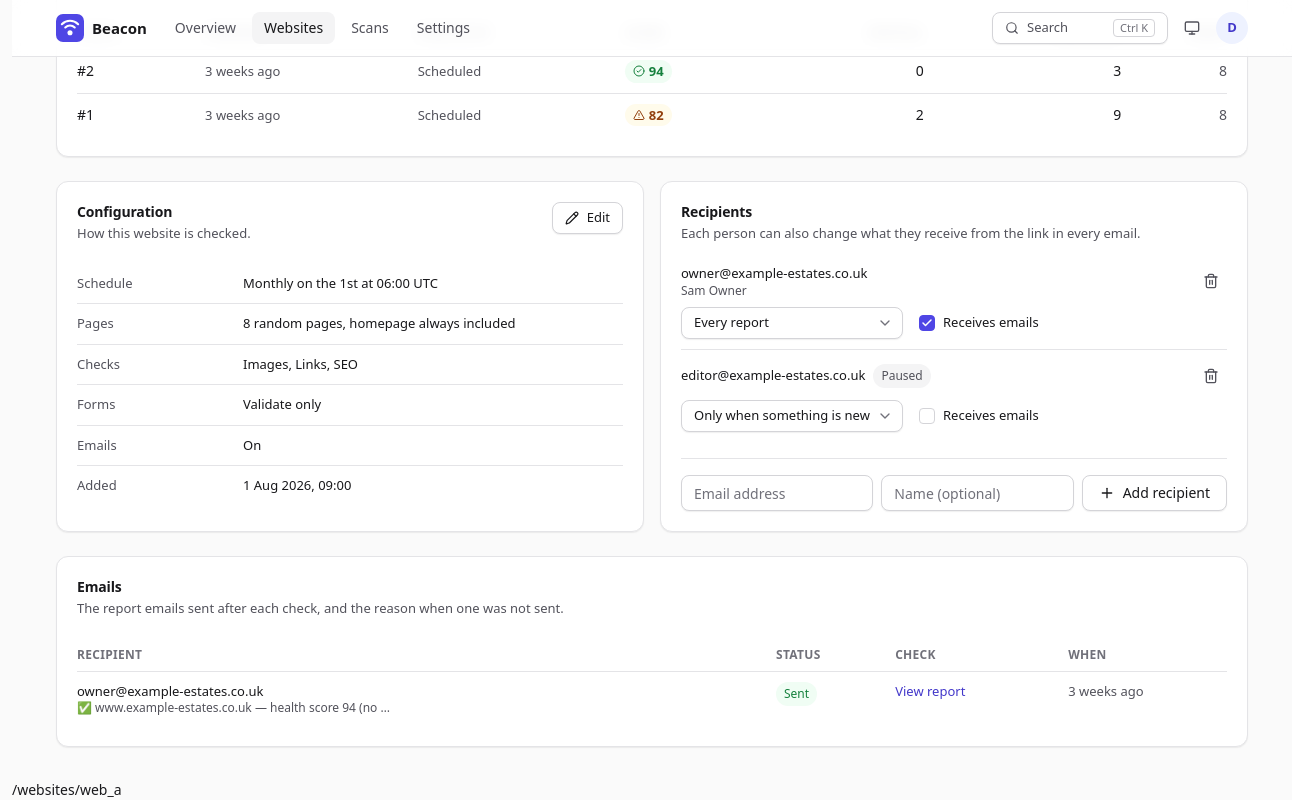
it: recipients › adds a recipient, and refuses a bad address before asking the server
(page scrolled)
Type "nope" into the field labelled "Email address". click: (777, 493)
box: [681, 475, 873, 511]
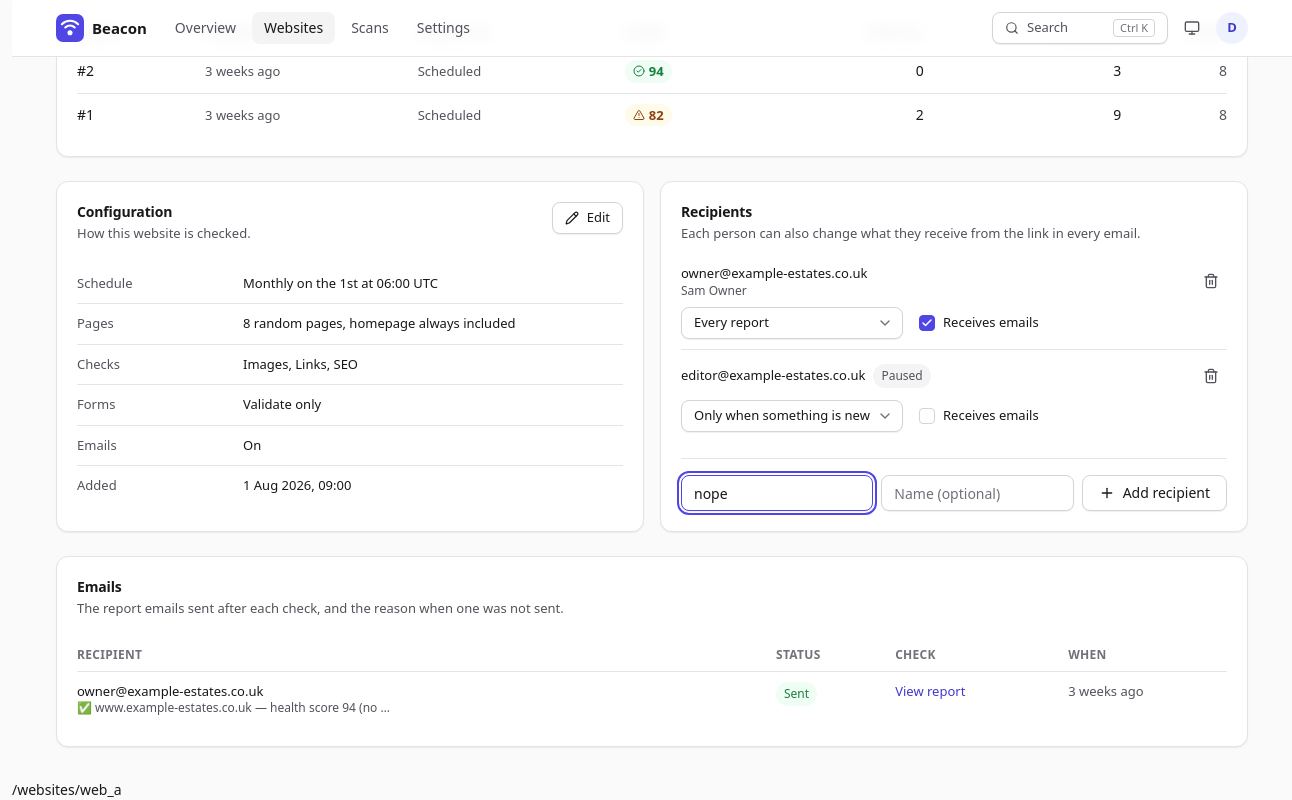
Click the button "Add recipient". click: (1154, 493)
box: [1082, 475, 1227, 511]
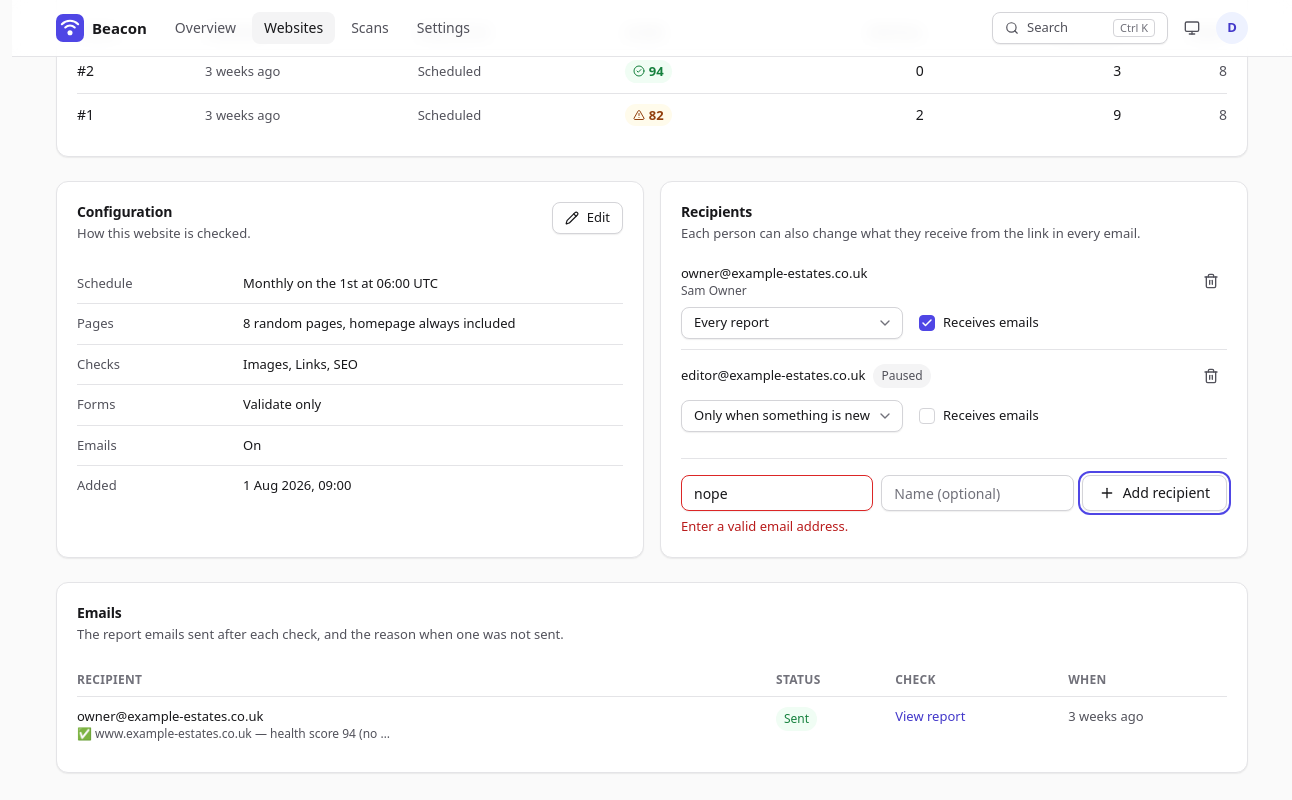
Check: the text "Enter a valid email address." is shown, box [681, 517, 848, 535]
Replace the text in the field named "Email address" with "kim@example-estates.co.uk". click: (777, 493)
box: [681, 475, 873, 511]
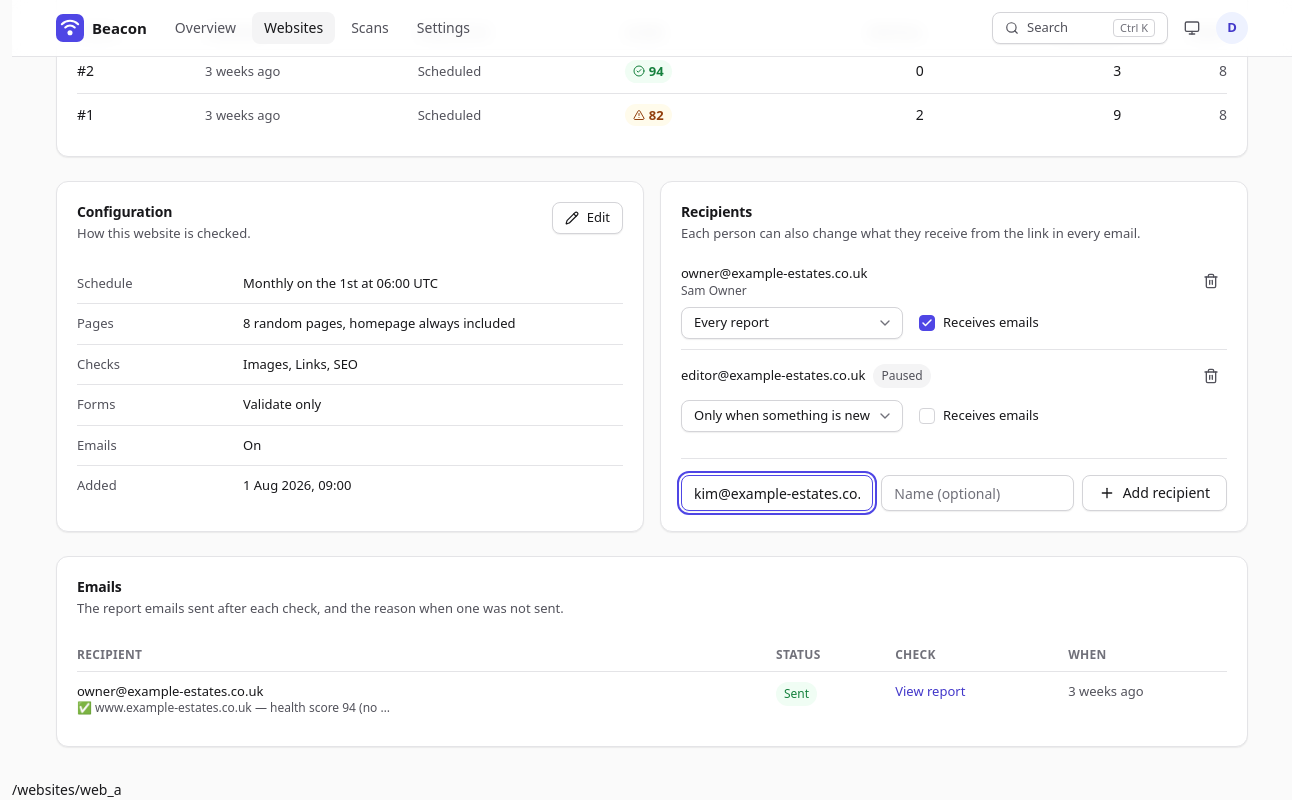
Type "Kim" into the field labelled "Name (optional)". click: (977, 493)
box: [881, 475, 1074, 511]
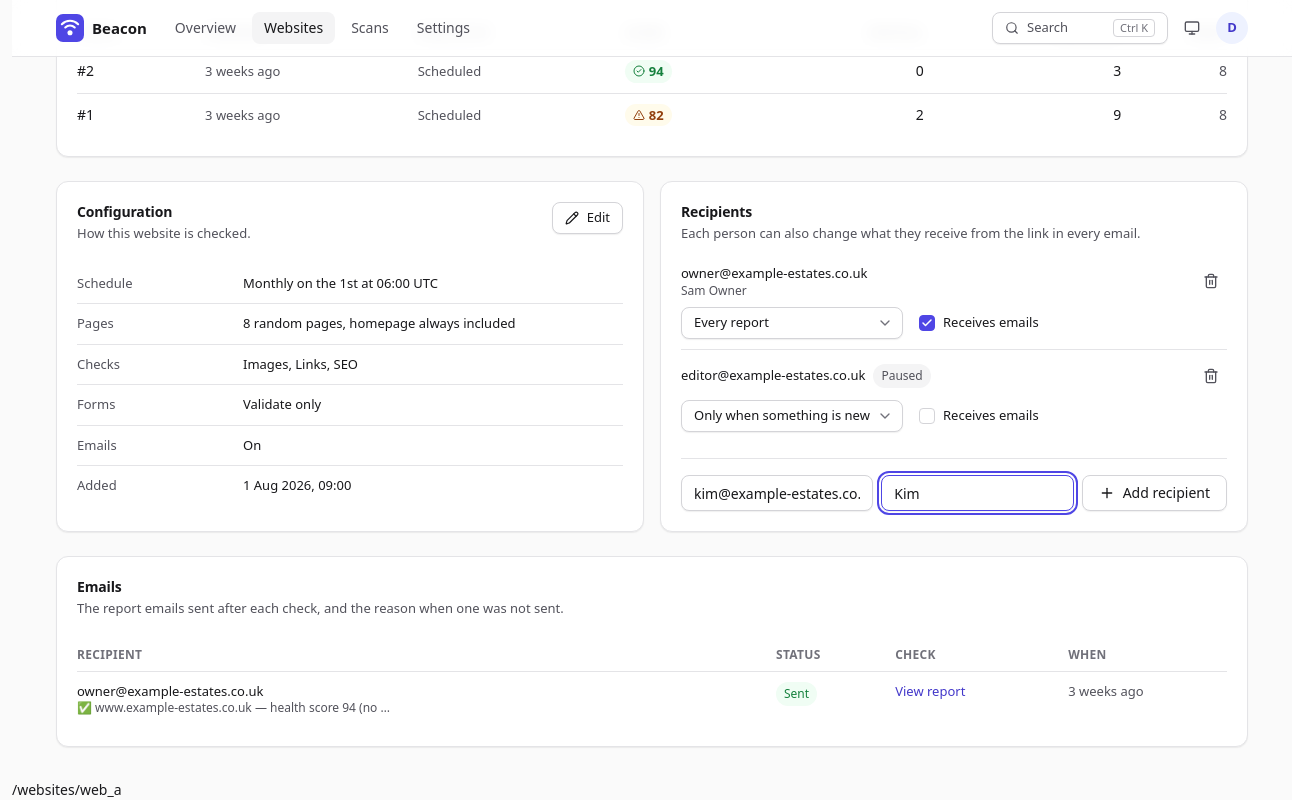
Click the button "Add recipient". click: (1154, 493)
box: [1082, 475, 1227, 511]
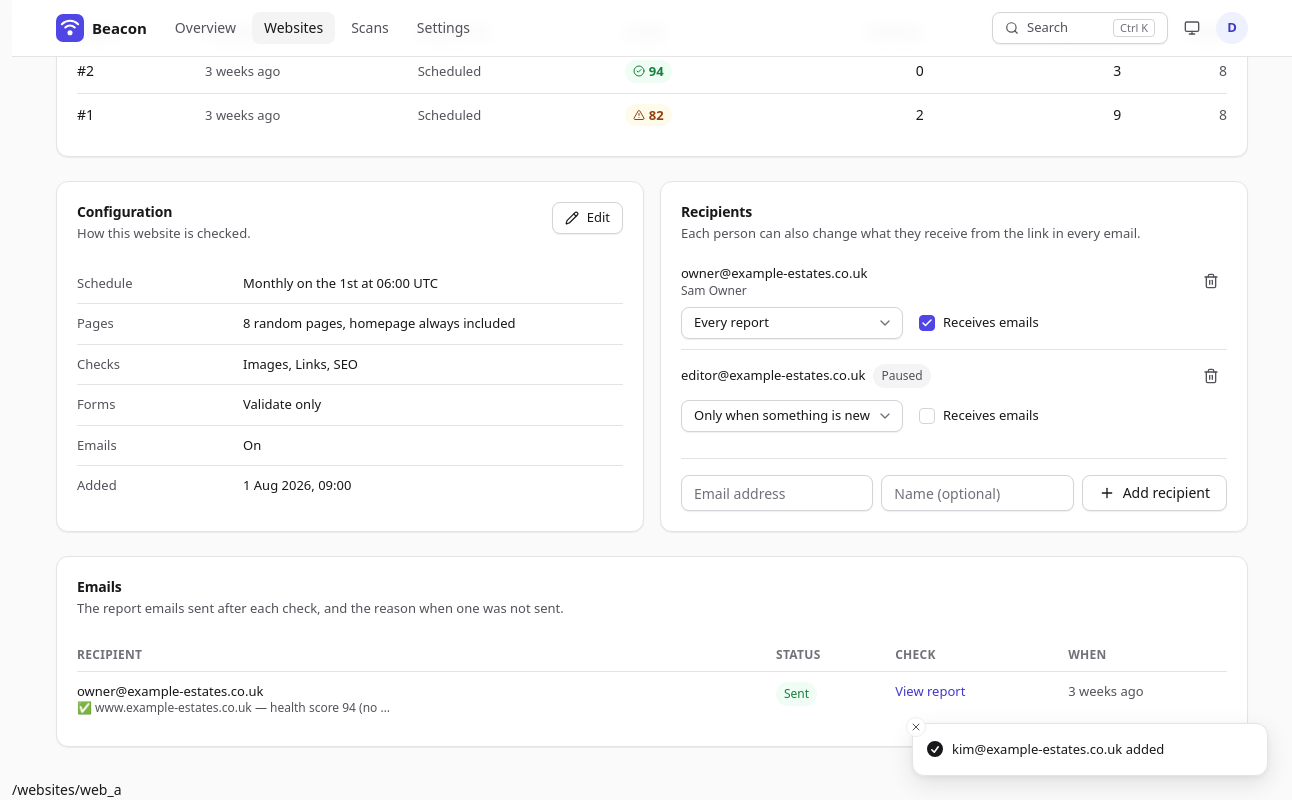
Check: the text "kim@example-estates.co.uk added" is shown, box [952, 740, 1164, 759]
